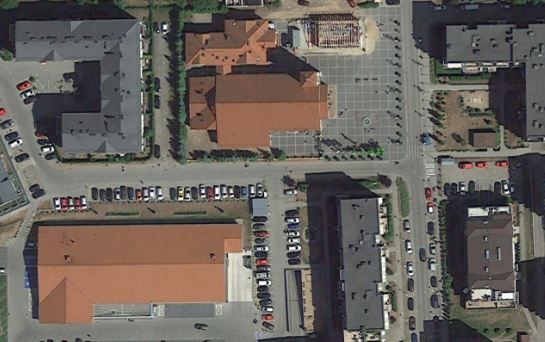block of flats: (10, 16, 151, 159), (441, 16, 545, 145), (335, 193, 393, 340), (457, 201, 522, 311), (178, 17, 287, 73)
church: (181, 65, 345, 154)
shopping_center: (30, 216, 248, 327)
